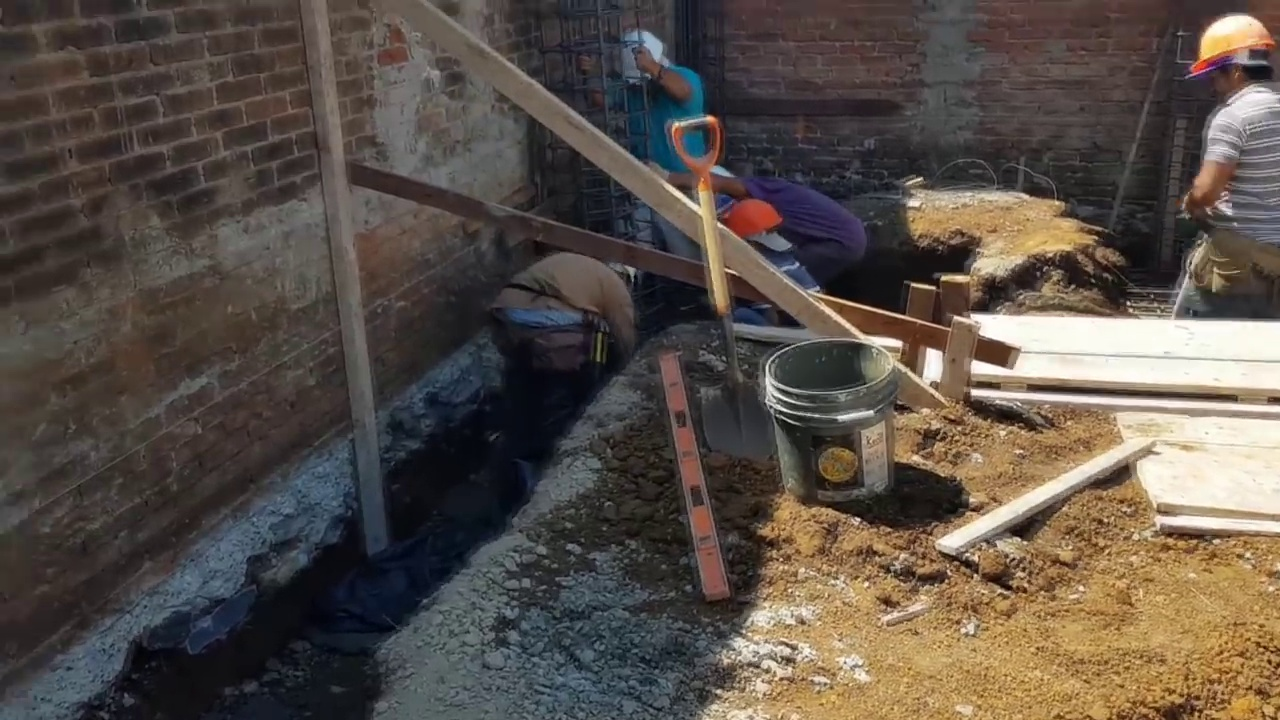helmet: (1189, 10, 1277, 80), (722, 198, 782, 240), (623, 30, 664, 81)
helmet-on: (1190, 10, 1275, 106), (723, 198, 786, 256), (620, 30, 673, 89)
person: (1180, 2, 1279, 331), (581, 27, 708, 264), (481, 242, 632, 384), (705, 160, 863, 286), (725, 196, 815, 297)
